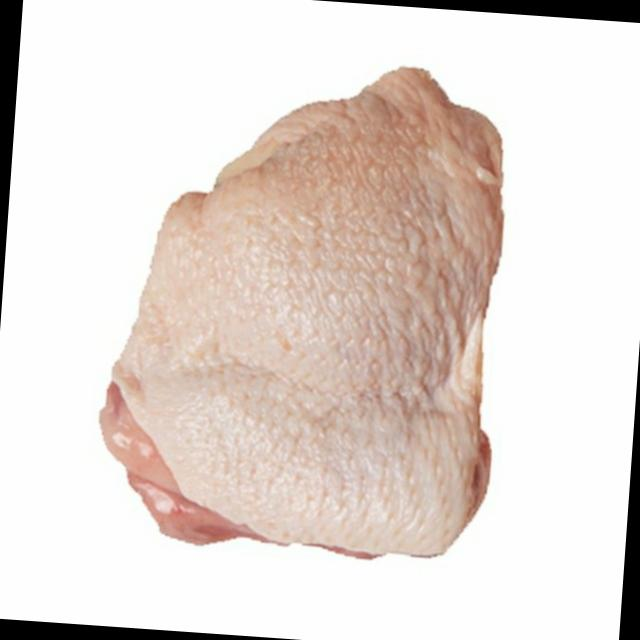Ayam: (93, 47, 517, 565)
